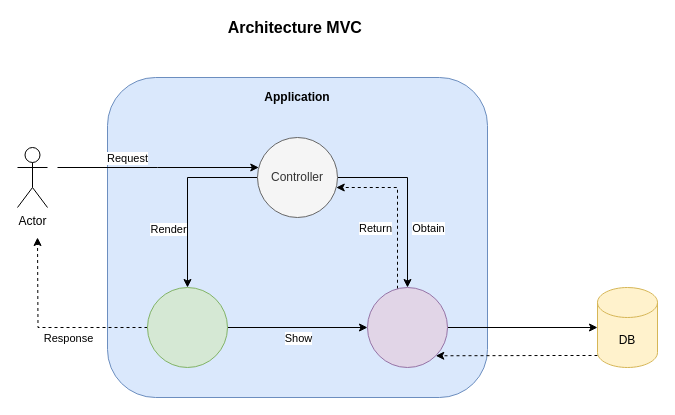
This 675x415 diagram has some shape labels left out. The shapes that lost their labels are listed below. From the top down, each one's centre as x and y in pixels, then its label:
(x=187, y=327): View
(x=407, y=327): Model
